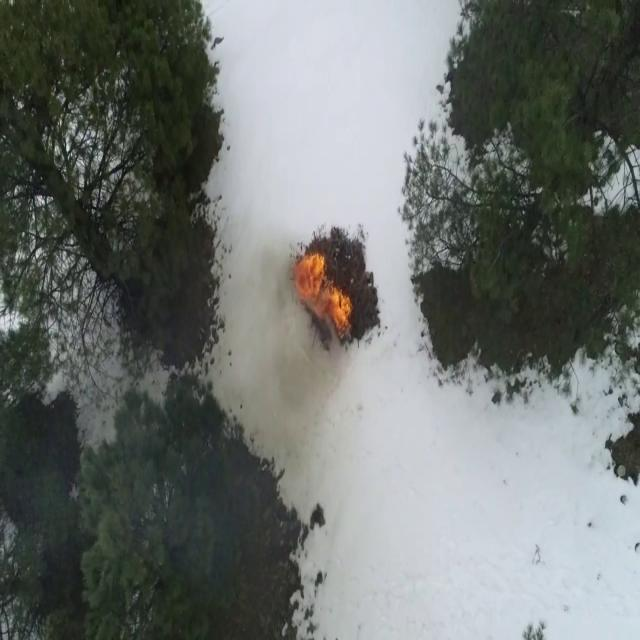fire: (292, 244, 348, 334)
